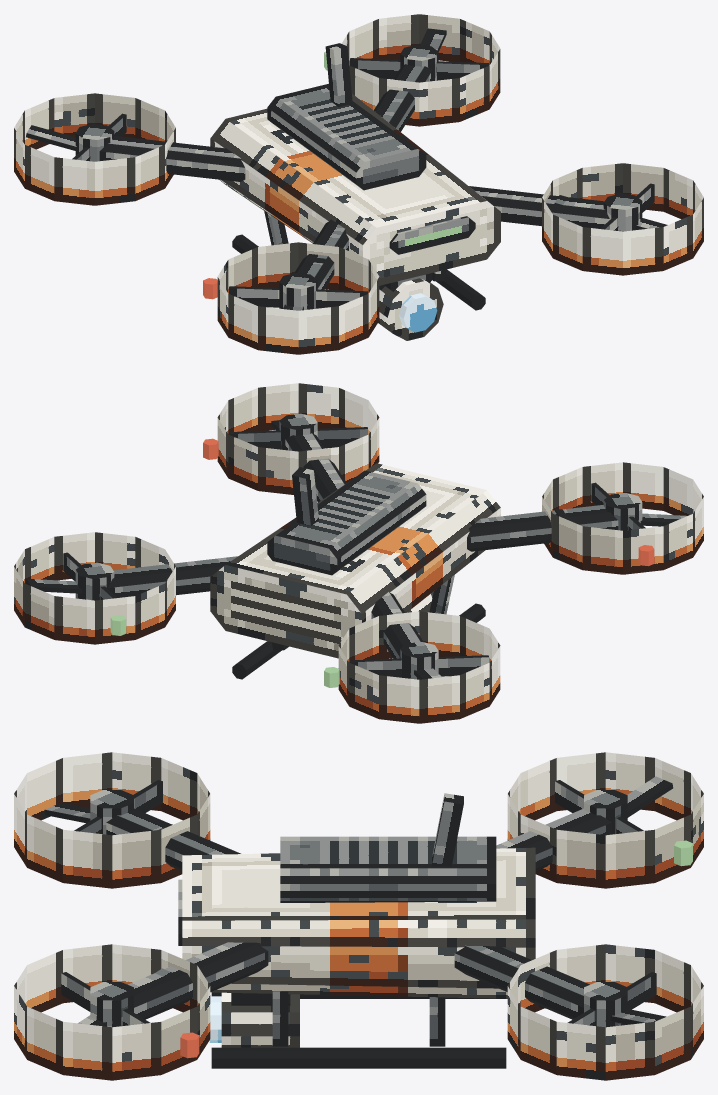
File: drone_scout.glb
3 renders of one model, top to bottom at view 1: azimuth 30°, elevation 25°; view 2: azimuth 150°, elevation 25°; view 3: azimuth 270°, elevation 25°, orthographic. The views are drawn at different scales.
Parts seen in each view (by area): view 1: hull, duct, duct_mirror, duct_b_mirror, duct_b, spine, boom_back_mirror, boom, eye, nose, boom_back, blade_mirror (+10 smaller); view 2: hull, duct_mirror, duct_b_mirror, duct_b, duct, spine, boom_mirror, boom_back, boom, blade_b_mirror, blade, boom_back_mirror (+8 smaller); view 3: hull, duct_mirror, duct_b, duct, duct_b_mirror, spine, skid, boom, boom_back, eye, boom_mirror, boom_back_mirror (+17 smaller).
Boxes of the visible parts, x1,y1,x2,y2 form: hull: (210, 93, 500, 285); duct: (542, 163, 703, 275); duct_mirror: (217, 242, 379, 354); duct_b_mirror: (14, 93, 175, 205); duct_b: (341, 14, 500, 126); spine: (267, 83, 426, 190); boom_back_mirror: (99, 136, 245, 181); boom: (469, 186, 609, 228); eye: (378, 278, 443, 340); nose: (389, 216, 475, 254); boom_back: (373, 64, 432, 131); blade_mirror: (229, 286, 367, 308); hull: (210, 463, 500, 658); duct_mirror: (542, 462, 703, 574); duct_b_mirror: (338, 611, 500, 723); duct_b: (14, 532, 175, 644); duct: (217, 383, 379, 494); spine: (267, 470, 426, 575); boom_mirror: (467, 505, 618, 551); boom_back: (108, 556, 237, 597); boom: (285, 433, 346, 502); blade_b_mirror: (350, 655, 488, 677); blade: (229, 427, 367, 449); boom_back_mirror: (371, 592, 423, 658); hull: (182, 847, 535, 998); duct_mirror: (14, 752, 210, 888); duct_b: (507, 944, 703, 1080); duct: (14, 944, 210, 1080); duct_b_mirror: (507, 752, 703, 888); spine: (280, 836, 496, 902); skid: (211, 1047, 506, 1068); boom: (128, 942, 268, 1019); boom_back: (454, 945, 589, 1019); eye: (221, 992, 299, 1047); boom_mirror: (106, 808, 240, 870); boom_back_mirror: (496, 808, 611, 870).
Bounding box in the file's own units: 33.14 × 14.96 × 35.14.
Materials: 2 (2 with a texture image).
